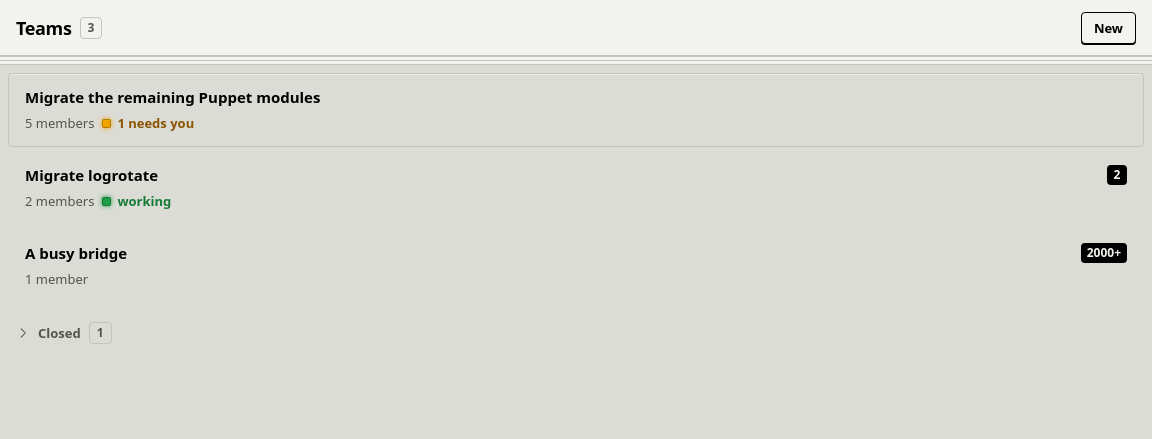
Test: the list of bridges › shows the unread count as an ink chip, 2000+ at the bound, the members, and the light of what needs you
Expected: the element with class "brow-meta" reads "5 members 1 needs you", [25,114,194,132]
Expected: the element with class "breathe" is shown, [102,118,111,128]
Click the button with class "group-toggle".
click(59, 333)  # box [8,311,1144,355]
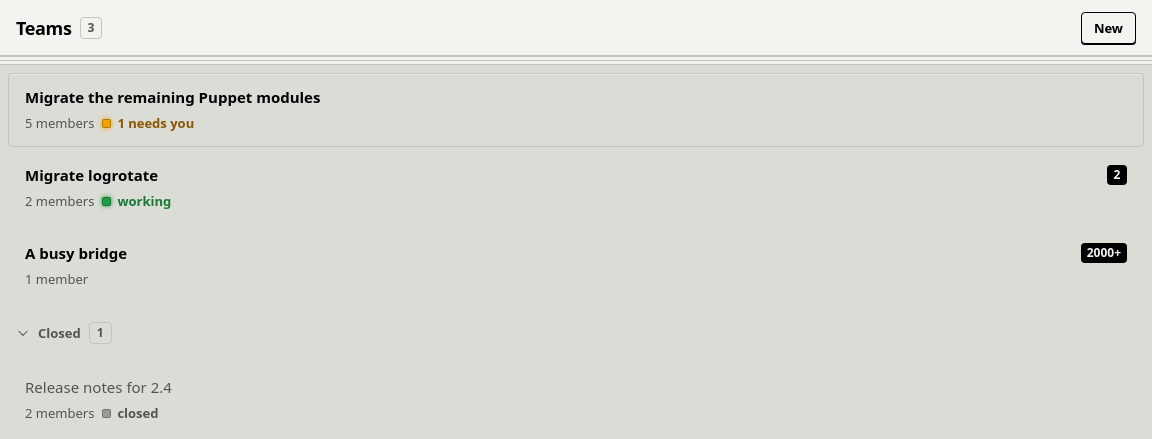
Expected: the element with class "status" reads "closed", [117,404,158,422]
